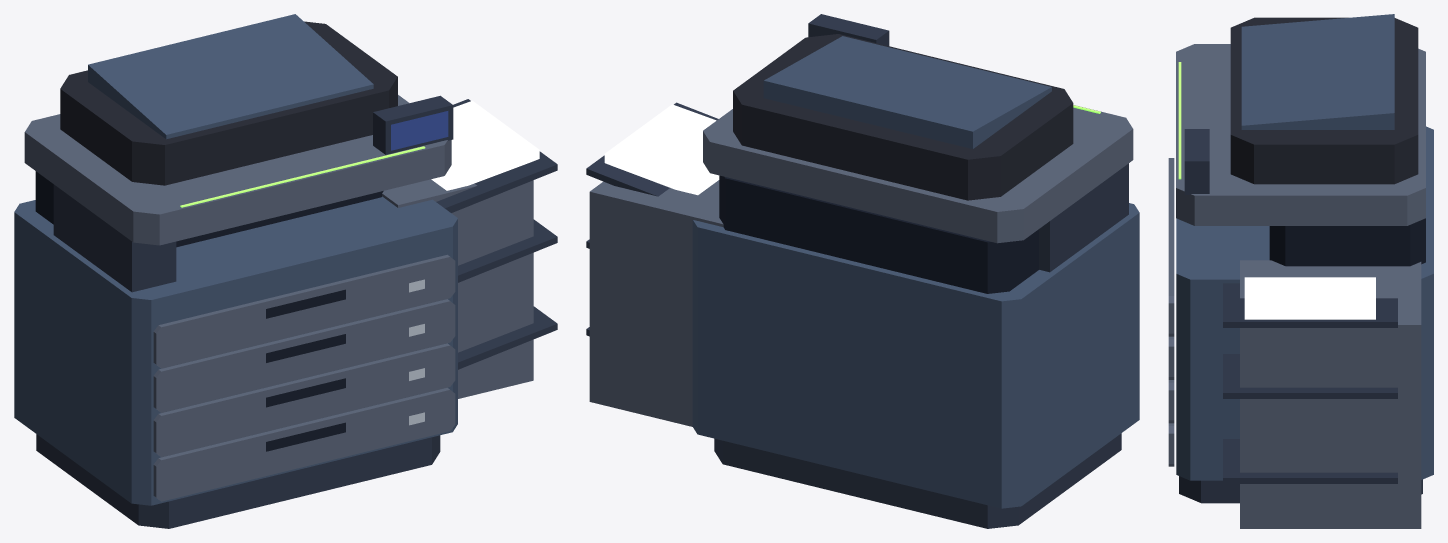
The model's file is off_office_printer.glb.
3 views of the same model, side by side, from view 1: azimuth 30°, elevation 25°; view 2: azimuth 150°, elevation 25°; view 3: azimuth 270°, elevation 25° (orthographic). The views are drawn at different scales.
Parts seen in each view (by area): view 1: finisher, chassis, bay_support, adf_cover, finger_pull, copies, print, scanner_slit, paper_level; view 2: chassis, finisher, adf_cover, finger_pull, bay_support, copies; view 3: finisher, chassis, adf_cover, bay_support, finger_pull, copies, scanner_slit.
Boxes of the visible parts, bbox=[...] form: finisher: bbox=[24, 95, 533, 501]; chassis: bbox=[14, 14, 457, 505]; bay_support: bbox=[36, 95, 557, 528]; adf_cover: bbox=[60, 21, 397, 185]; finger_pull: bbox=[35, 171, 383, 451]; copies: bbox=[431, 100, 539, 190]; print: bbox=[391, 111, 448, 150]; scanner_slit: bbox=[180, 146, 425, 207]; paper_level: bbox=[409, 279, 424, 425]; chassis: bbox=[692, 36, 1139, 508]; finisher: bbox=[589, 105, 1133, 426]; adf_cover: bbox=[733, 34, 1073, 200]; finger_pull: bbox=[719, 175, 1038, 293]; bay_support: bbox=[586, 14, 1128, 528]; copies: bbox=[604, 104, 719, 195]; finisher: bbox=[1168, 44, 1425, 528]; chassis: bbox=[1176, 14, 1433, 480]; adf_cover: bbox=[1230, 17, 1418, 184]; bay_support: bbox=[1179, 129, 1422, 503]; finger_pull: bbox=[1269, 218, 1425, 266]; copies: bbox=[1244, 277, 1375, 319]; scanner_slit: bbox=[1178, 62, 1181, 179].
Size of the model in its own units: 1.6 by 1.3 by 0.85.
